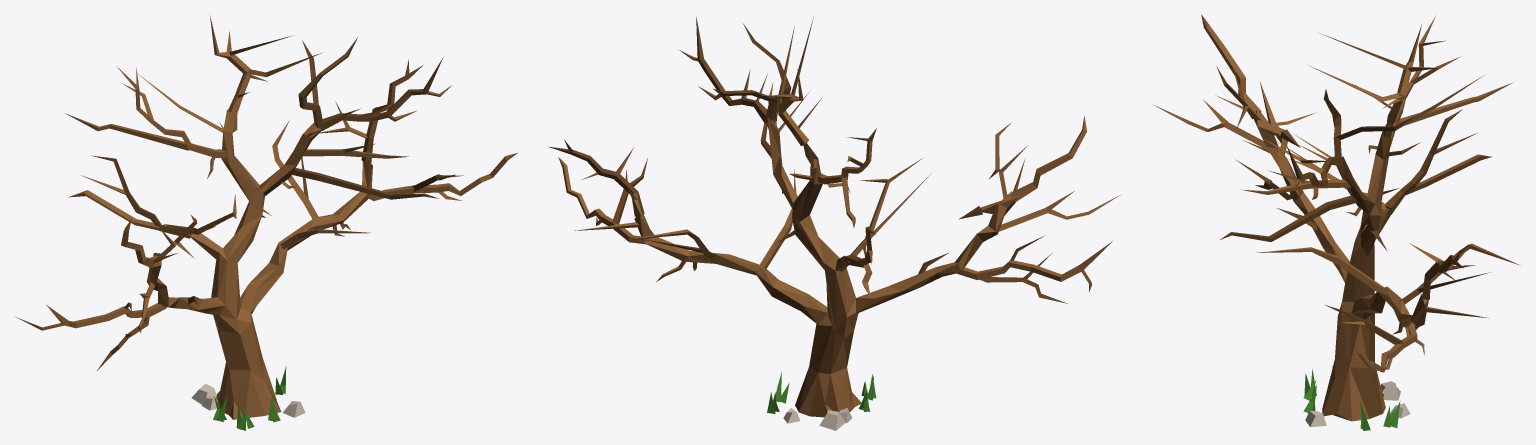
The model's file is cherry_1_bare.glb.
3 renders of one model, left to right at view 1: azimuth 30°, elevation 25°; view 2: azimuth 150°, elevation 25°; view 3: azimuth 270°, elevation 25°, orthographic. The views are drawn at different scales.
Parts seen in each view (by area): view 1: cherry_1_bare; view 2: cherry_1_bare; view 3: cherry_1_bare.
Part boxes in pixels (x1,y1,x2,y2): cherry_1_bare: (16,15,517,430); cherry_1_bare: (548,16,1120,430); cherry_1_bare: (1154,14,1520,430).
Bounding box in the file's own units: 9.51 × 6.61 × 5.65.
